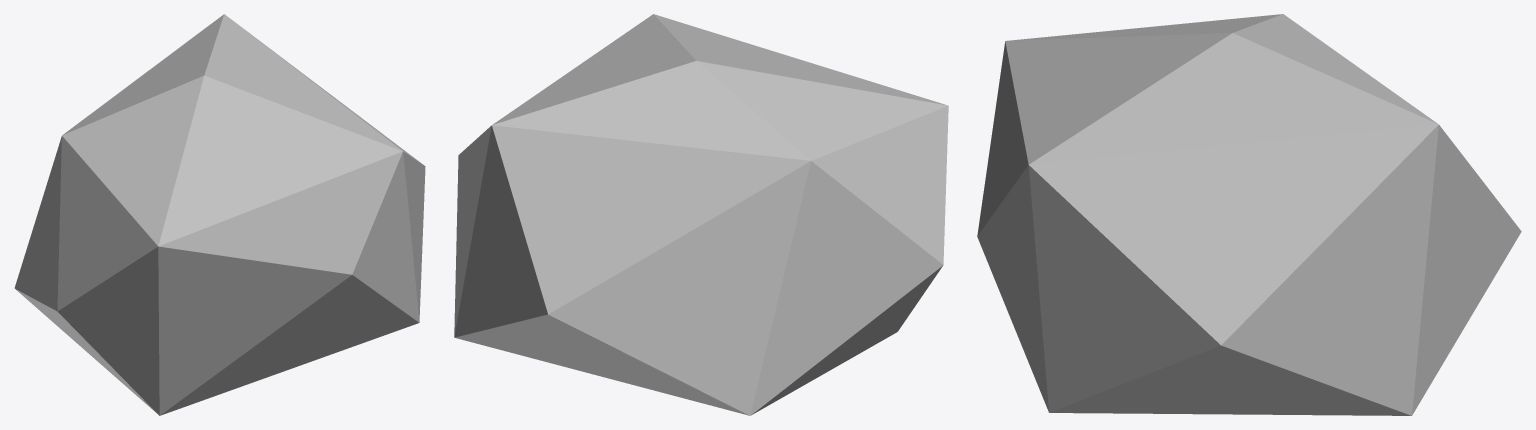
The model's file is SPW_Natures_Stone_09.glb.
The picture shows the model from 3 angles, left to right: view 1: azimuth 30°, elevation 25°; view 2: azimuth 150°, elevation 25°; view 3: azimuth 270°, elevation 25°; orthographic projection. The views are drawn at different scales.
Parts seen in each view (by area): view 1: SPW_Natures_Stone_09; view 2: SPW_Natures_Stone_09; view 3: SPW_Natures_Stone_09.
Boxes of the visible parts, x1,y1,x2,y2 form: SPW_Natures_Stone_09: (14, 14, 425, 415); SPW_Natures_Stone_09: (454, 14, 948, 415); SPW_Natures_Stone_09: (977, 14, 1521, 415).
Bounding box in the file's own units: 1.88 × 1.18 × 1.74.
Materials: 1 (1 with a texture image).
